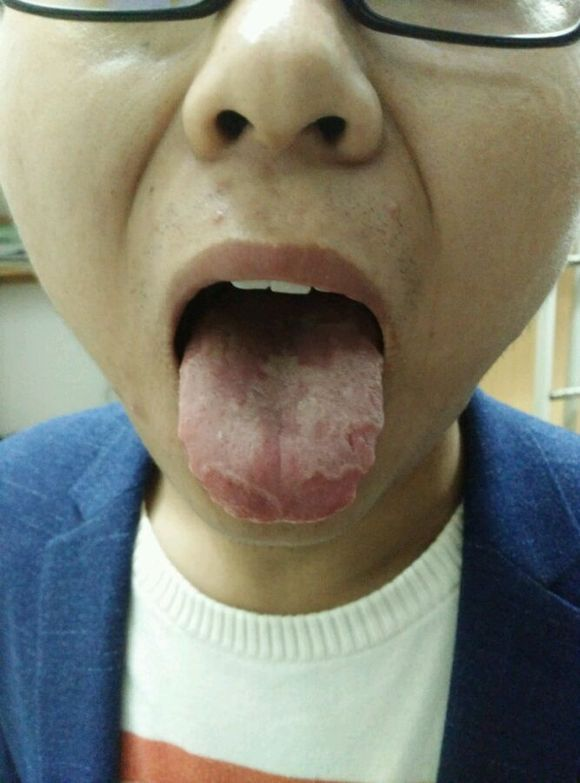baitaishe: (178, 290, 384, 523)
botaishe: (197, 458, 363, 521)
hongshe: (178, 290, 384, 523)
